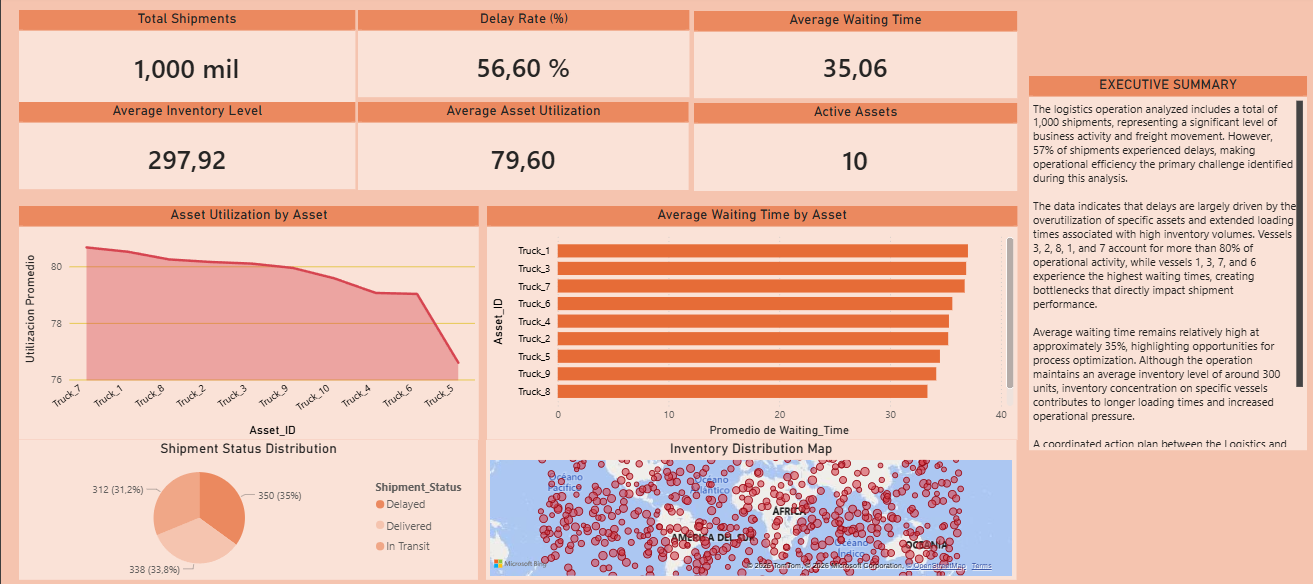

This screenshot's page, from the dashboard's own definition file:
{"tool":"powerbi","page":{"name":"Executive Dashboard","canvas":[1600,720],"ordinal":0},"visuals":[{"type":"cardVisual","title":"Total Shipments","fields":{"Data":["Waiting_status.Total Envios"]},"box":[21.4,16.5,409.5,106],"z":0},{"type":"cardVisual","title":"Delay Rate (%)","fields":{"Data":["Waiting_status.% Retrasos"]},"box":[452.3,16.5,402.7,106],"z":1000},{"type":"cardVisual","title":"Average Waiting Time","fields":{"Data":["Waiting_status.Tiempo Promedio Espera"]},"box":[861.8,16.5,409.5,106],"z":2000},{"type":"cardVisual","title":"Average Inventory Level","fields":{"Data":["Waiting_status.Inventario Promedio"]},"box":[21.4,129.4,409.5,106],"z":3000},{"type":"cardVisual","title":"Average Asset Utilization","fields":{"Data":["Waiting_status.Utilizacion Promedio"]},"box":[452.3,129.4,409.5,106],"z":4000},{"type":"cardVisual","title":"Active Assets","fields":{"Data":["Waiting_status.Activos Unicos"]},"box":[861.8,129.4,409.5,106],"z":5000},{"type":"areaChart","title":"Asset Utilization by Asset","fields":{"Category":["tbl_logistics.Asset_ID"],"Y":["Waiting_status.Utilizacion Promedio"]},"box":[21.4,255.8,559.3,284],"z":6000},{"type":"barChart","title":"Average Waiting Time by Asset","fields":{"Category":["tbl_logistics.Asset_ID"],"Y":["Avg(tbl_logistics.Waiting_Time)"]},"box":[590.4,255.8,644.9,284],"z":7000},{"type":"pieChart","title":"Shipment Status Distribution","fields":{"Category":["tbl_logistics.Shipment_Status"],"Y":["CountNonNull(tbl_logistics.Shipment_Status)"]},"box":[22.4,539.8,558.3,170.2],"z":8000},{"type":"map","title":"Inventory Distribution Map","fields":{"Y":["tbl_logistics.Latitude"],"X":["tbl_logistics.Longitude"],"Size":["Avg(tbl_logistics.Inventory_Level)"]},"box":[590,540,645,170],"z":9000},{"type":"textbox","title":"EXECUTIVE SUMMARY","box":[1245,26.7,355,672.3],"z":9001}]}

Visuals, with their boxes in screenshot pixels (x1, y1, x2, y2), scaled from the page's 1600x720 canvas onto the 1313x584 screenshot:
"Total Shipments" cardVisual: 18:13:354:99
"Delay Rate (%)" cardVisual: 371:13:702:99
"Average Waiting Time" cardVisual: 707:13:1043:99
"Average Inventory Level" cardVisual: 18:105:354:191
"Average Asset Utilization" cardVisual: 371:105:707:191
"Active Assets" cardVisual: 707:105:1043:191
"Asset Utilization by Asset" areaChart: 18:207:477:438
"Average Waiting Time by Asset" barChart: 484:207:1014:438
"Shipment Status Distribution" pieChart: 18:438:477:576
"Inventory Distribution Map" map: 484:438:1013:576
"EXECUTIVE SUMMARY" textbox: 1022:22:1312:567
